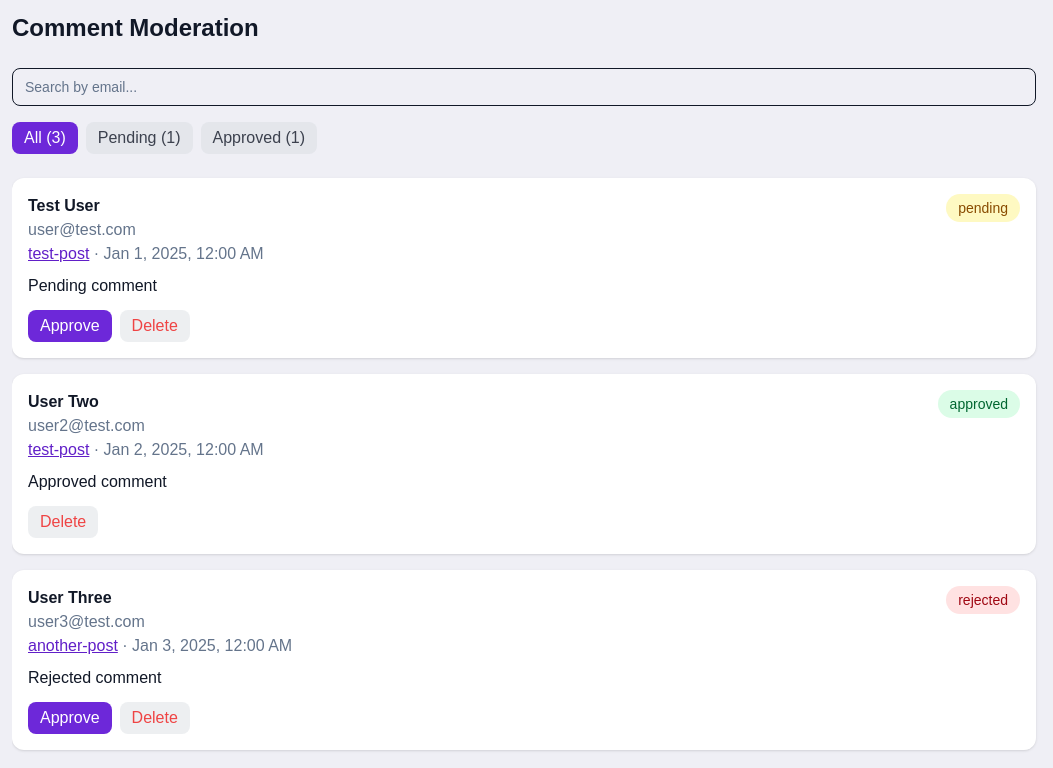
Test: ModerationPanel › shows Delete all button with count when search has results
The width and height of the screenshot is (1053, 768).
Type "user@test.com" into the field with placeholder "Search by email...".
click(524, 87); type("user@test.com")  # box [12,68,1036,106]
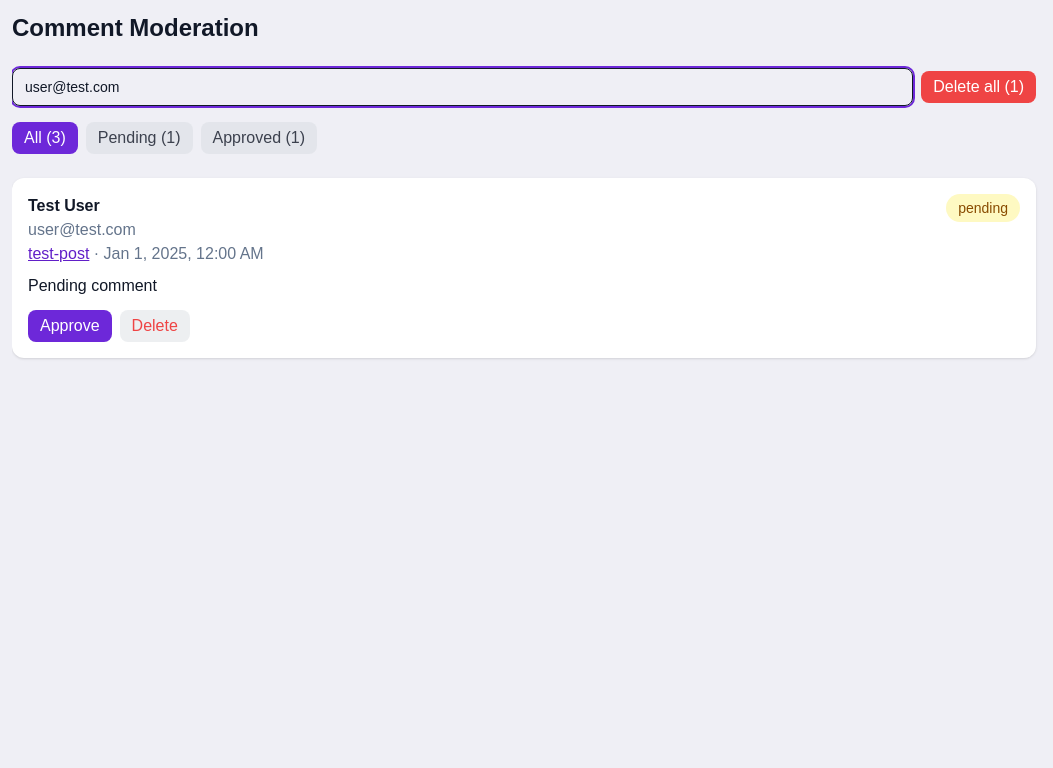
expect the button "Delete all (1)" is shown: met, box [921,71,1036,103]
